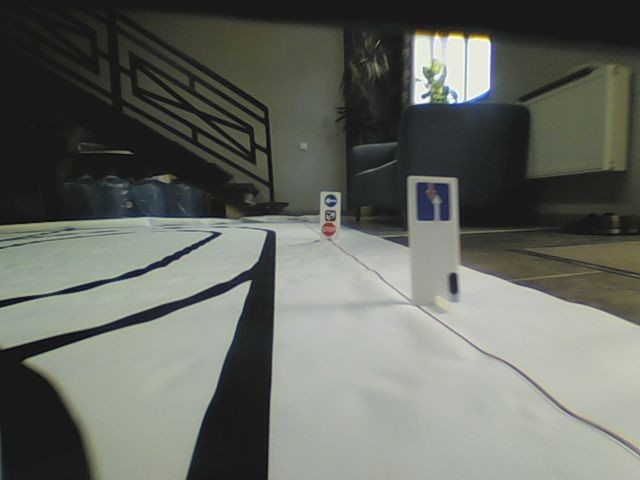priority_movement: (415, 179, 453, 223)
